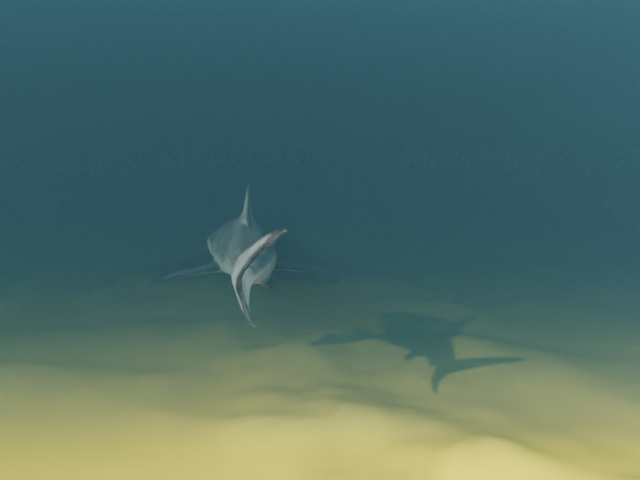Carribean Shark.001: (148, 183, 343, 327)
